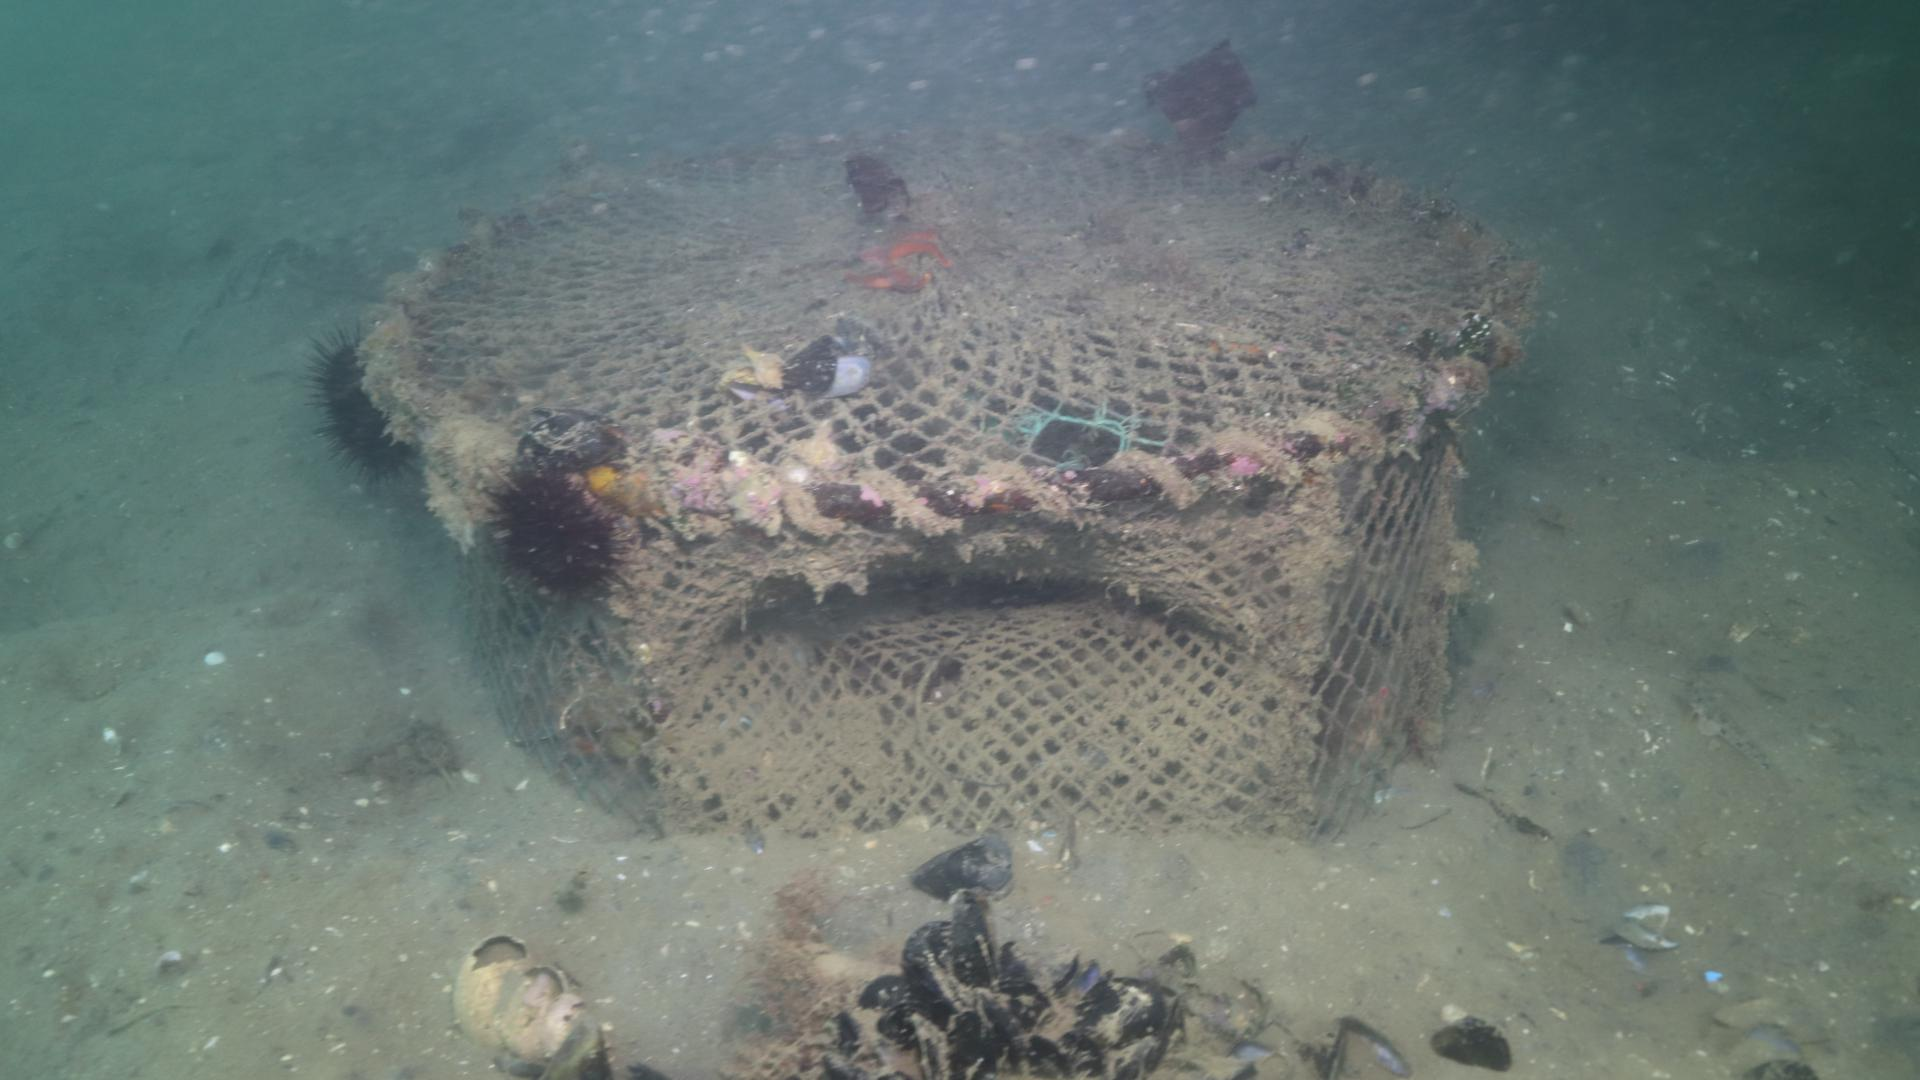circular fish trap: (357, 127, 1548, 849)
